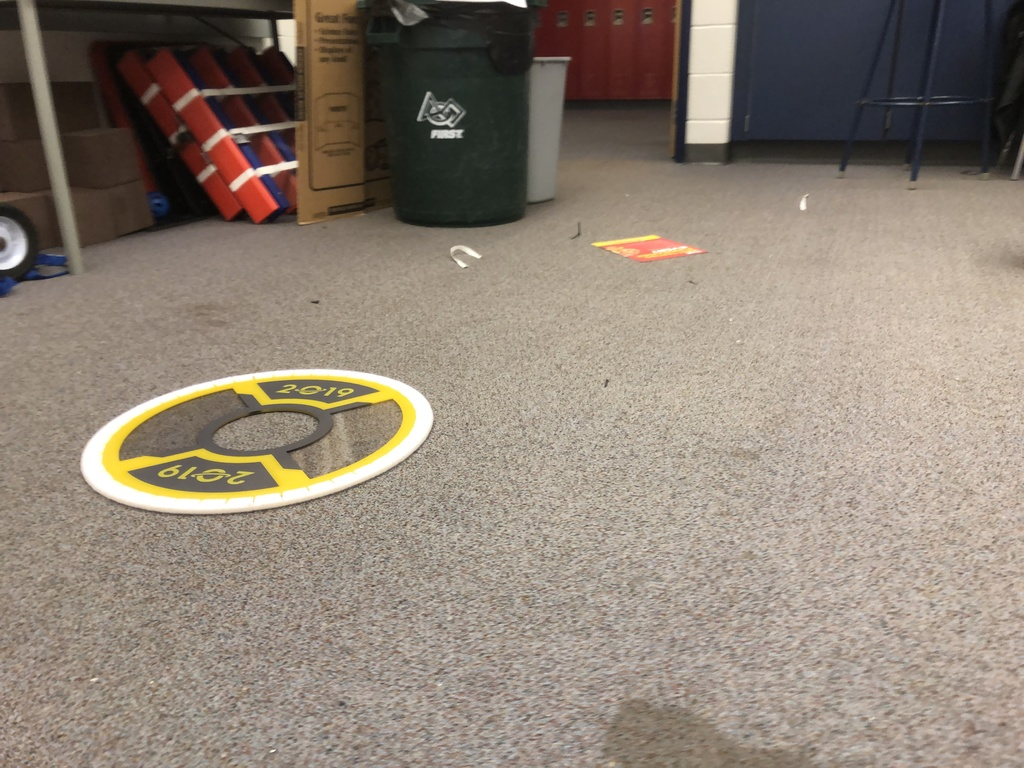hatch_panel: (66, 356, 464, 522)
